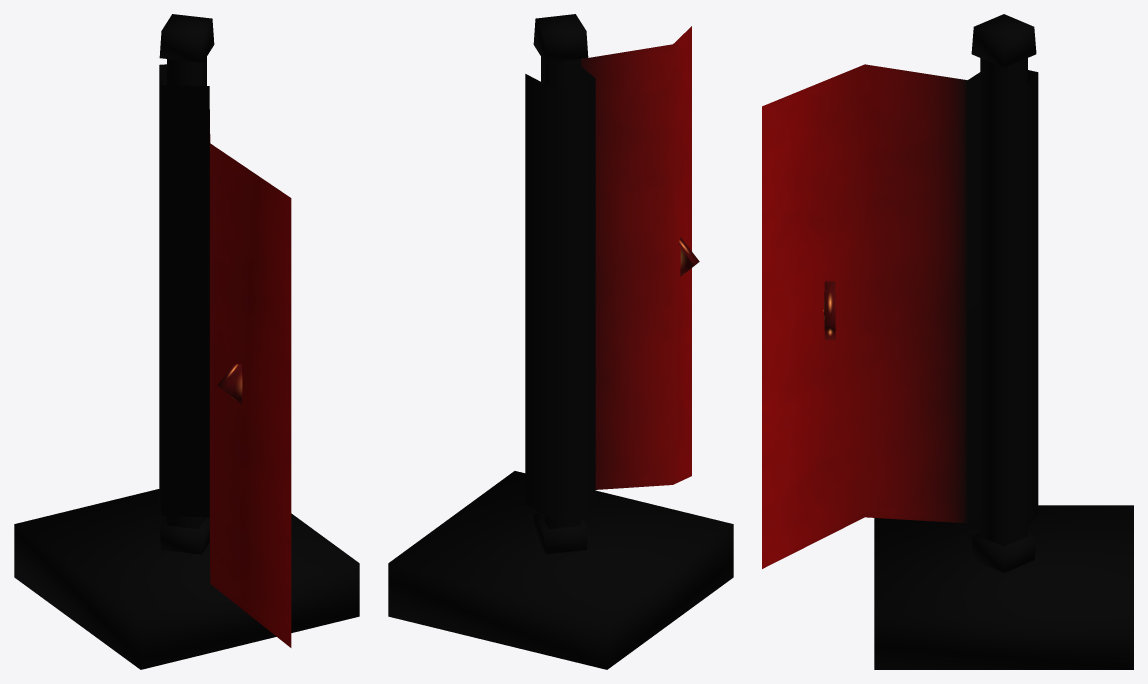
File: prop_lore_fragment_scroll_lod2.glb
The picture shows the model from 3 angles, left to right: view 1: azimuth 30°, elevation 25°; view 2: azimuth 150°, elevation 25°; view 3: azimuth 270°, elevation 25°; orthographic projection. The views are drawn at different scales.
Parts seen in each view (by area): view 1: lore_fragment_scroll_lod2; view 2: lore_fragment_scroll_lod2; view 3: lore_fragment_scroll_lod2.
Boxes of the visible parts, bbox=[...] form: lore_fragment_scroll_lod2: bbox=[14, 14, 359, 669]; lore_fragment_scroll_lod2: bbox=[388, 14, 733, 669]; lore_fragment_scroll_lod2: bbox=[762, 14, 1133, 669].
Bounding box in the file's own units: 0.12 × 0.3 × 0.1718.
1 material, 1 textured.
